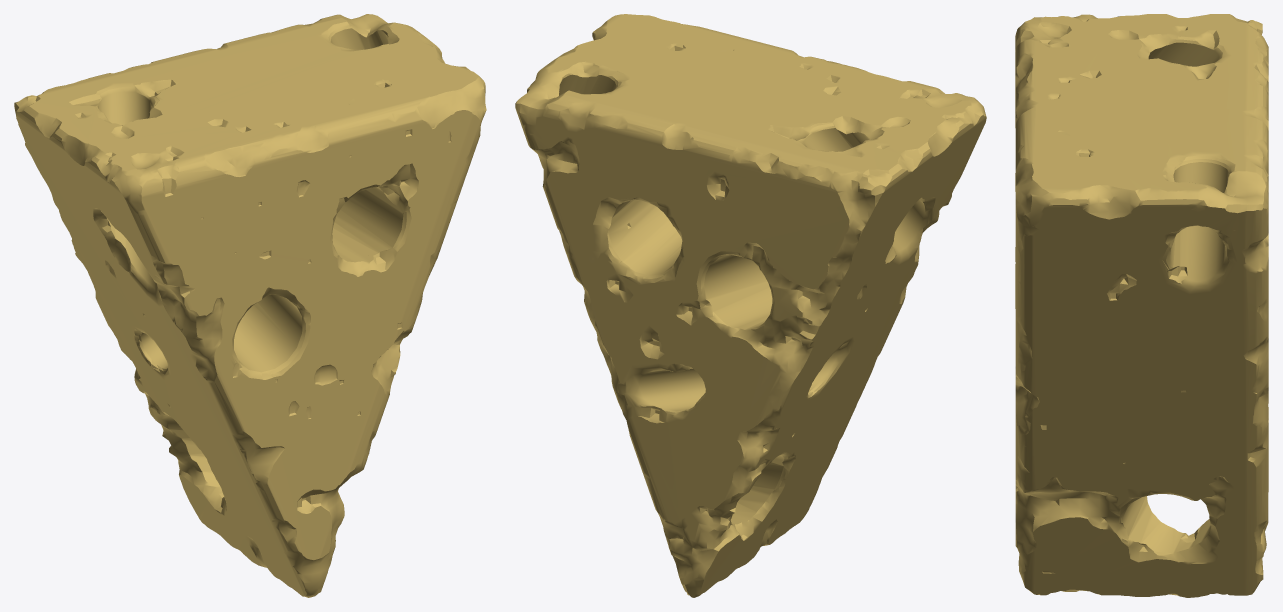
The model's file is cheese.glb.
The picture shows the model from 3 angles, left to right: view 1: azimuth 30°, elevation 25°; view 2: azimuth 150°, elevation 25°; view 3: azimuth 270°, elevation 25°; orthographic projection. The views are drawn at different scales.
Visible parts, largest first — view 1: Circle.004_dmg; view 2: Circle.004_dmg; view 3: Circle.004_dmg.
Boxes of the visible parts, x1,y1,x2,y2 form: Circle.004_dmg: (14,14,486,597); Circle.004_dmg: (515,14,986,597); Circle.004_dmg: (1015,14,1268,597).
Size of the model in its own units: 151 by 184 by 85.36.
1 material, 1 textured.
